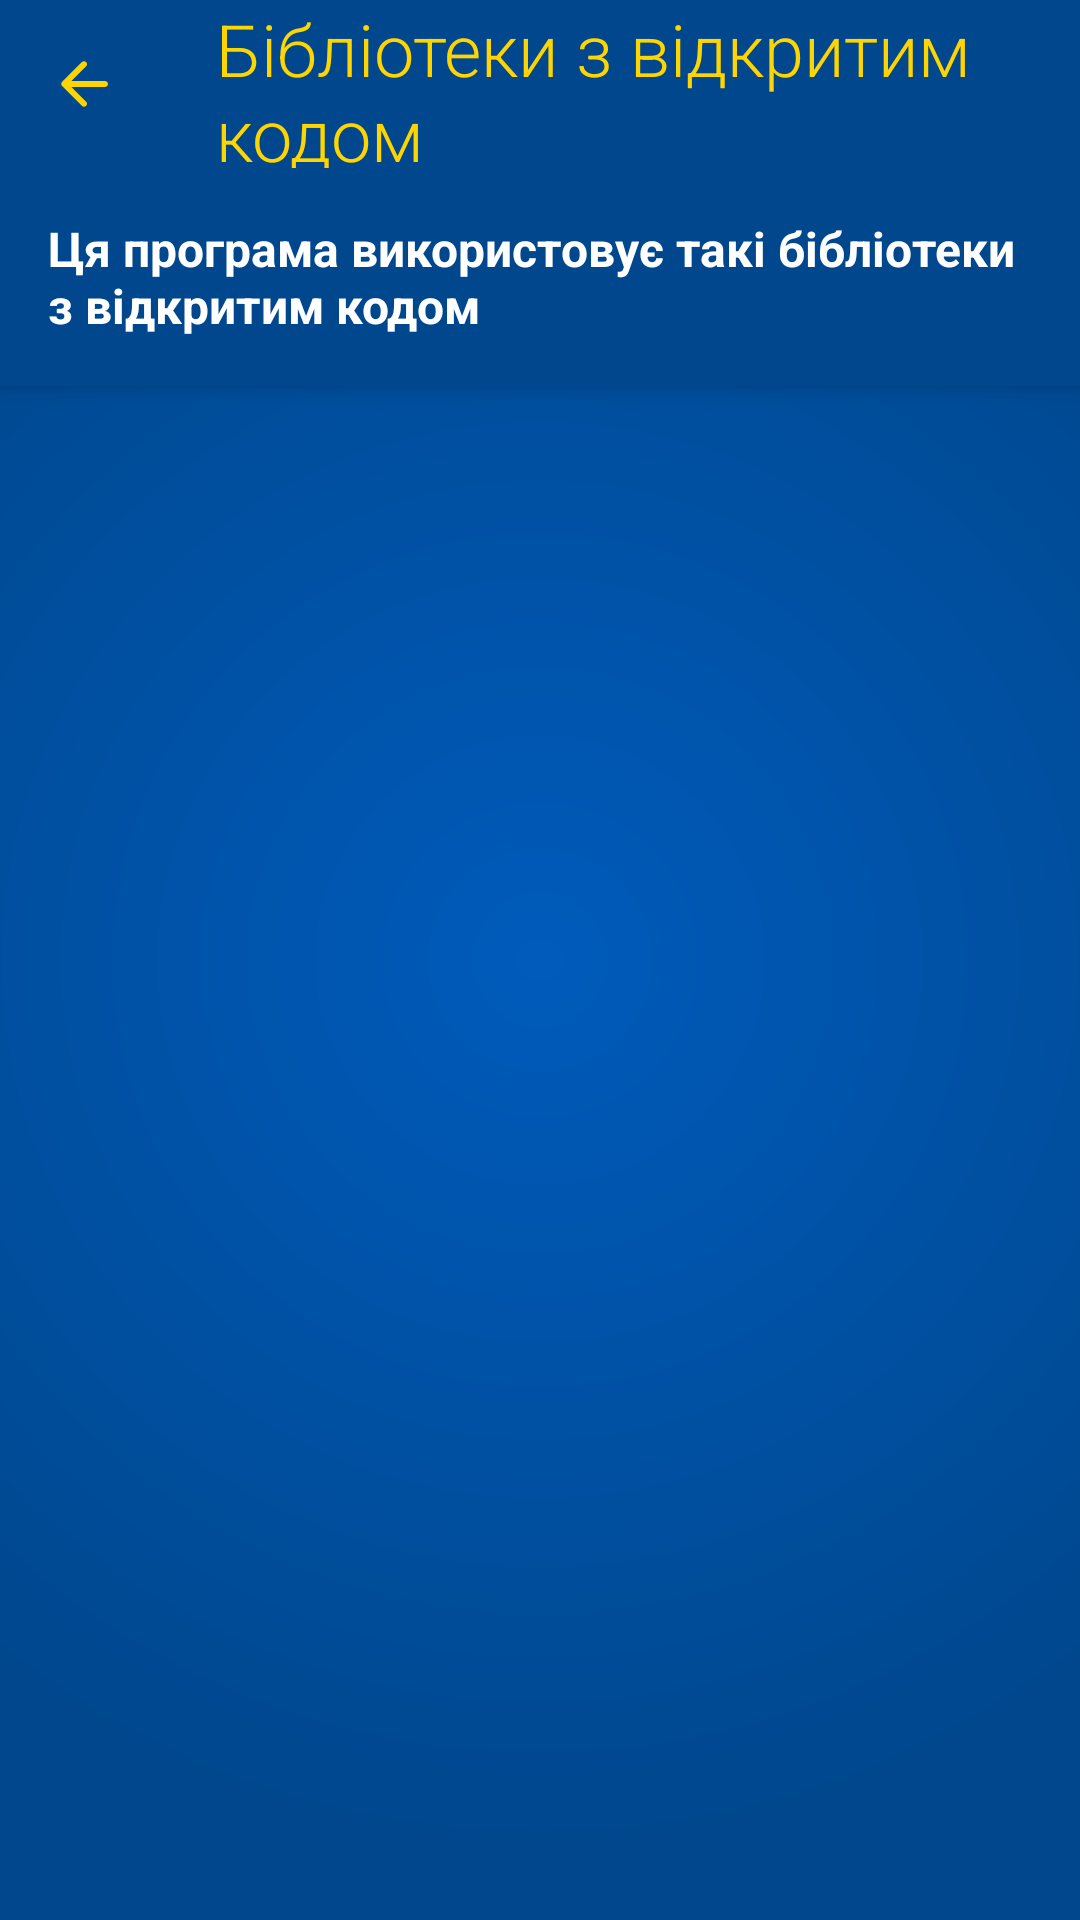

Screen size 1080px x 1920px. Icon name, then its center in pixels as (x,y):
arrow back: (84,84)
